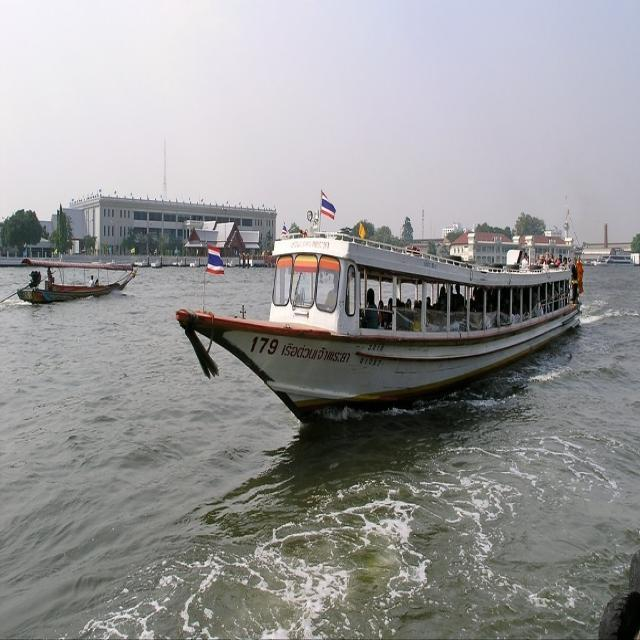boat: (176, 231, 586, 428), (12, 255, 136, 307)
